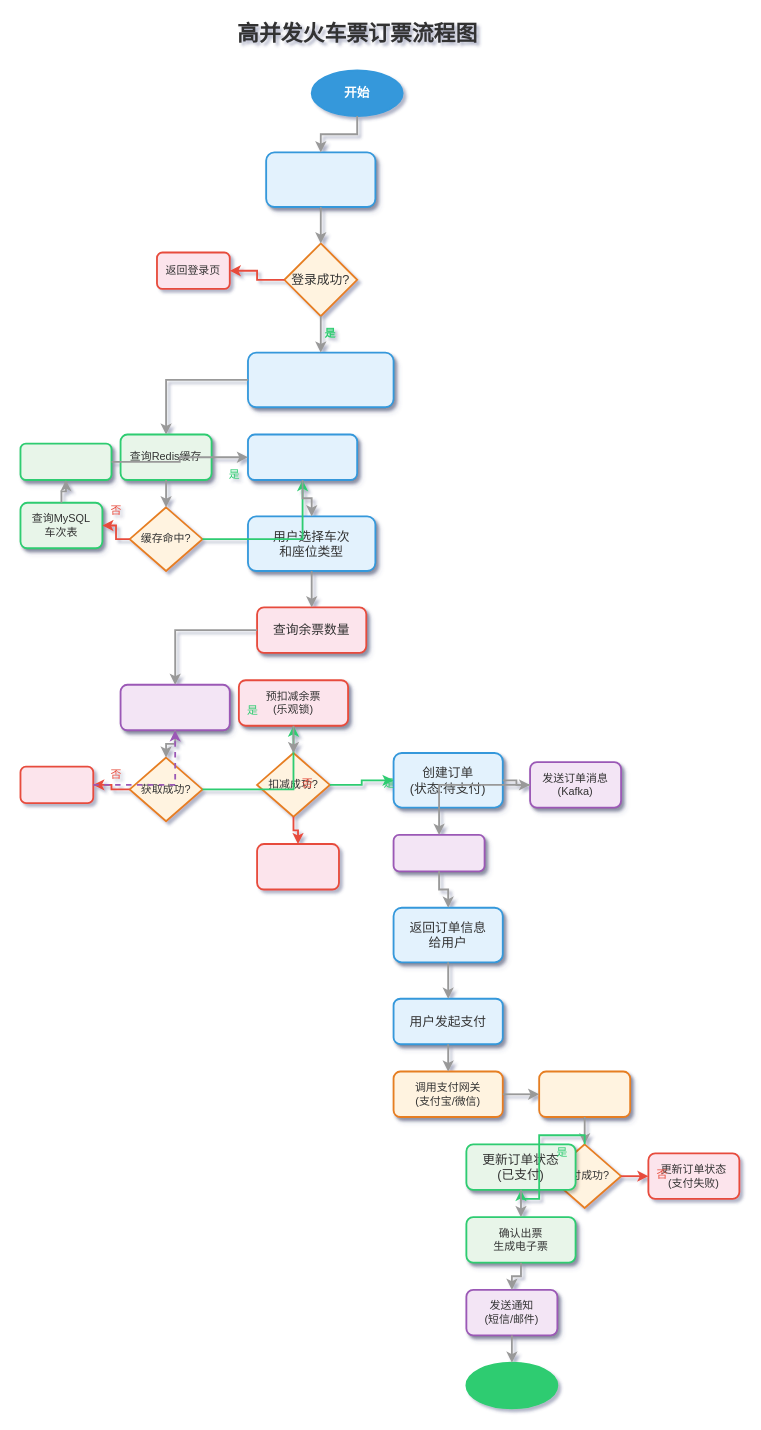
Some shapes in this 761 by 1430 pixel diagram are drawn without their labels. The centre of each missing label's shape, as x and y in pixels:
"余票不足 返回错误" goes at (x=297, y=866).
"回填Redis缓存" goes at (x=66, y=463).
"支付回调 验签处理" goes at (x=585, y=1095).
"查询车次信息 (出发地/目的地/日期)" goes at (x=321, y=381).
"用户登录 身份验证" goes at (x=321, y=180).
"等待重试" goes at (x=56, y=784).
"获取分布式锁 (Redis Lock)" goes at (x=176, y=708).
"订票成功" goes at (x=511, y=1385).
"返回车次列表" goes at (x=303, y=458).
"释放分布式锁" goes at (x=439, y=854).
